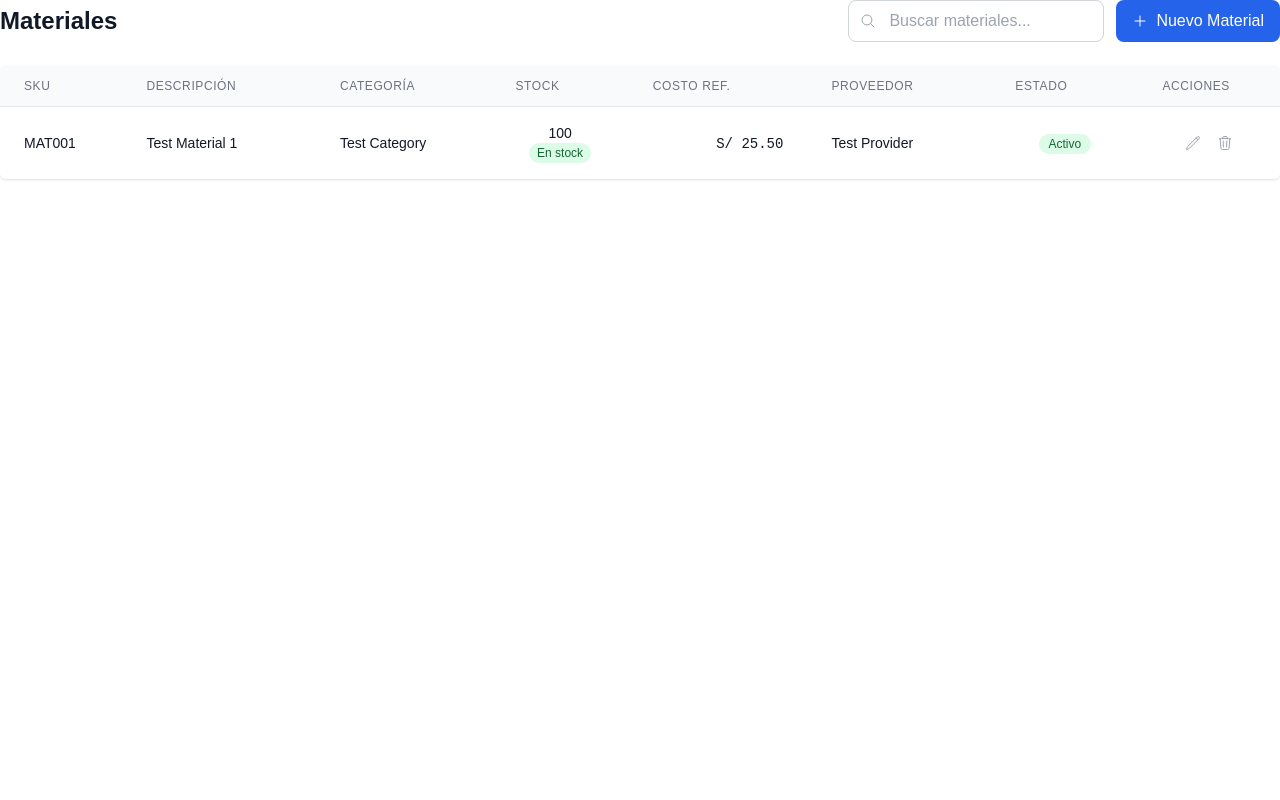
Test case: Materials Components › MaterialsList › should handle delete material confirmation
The image size is (1280, 800).
Click the button titled "Eliminar material" at (1225, 143), box left=1213, top=131, right=1237, bottom=155
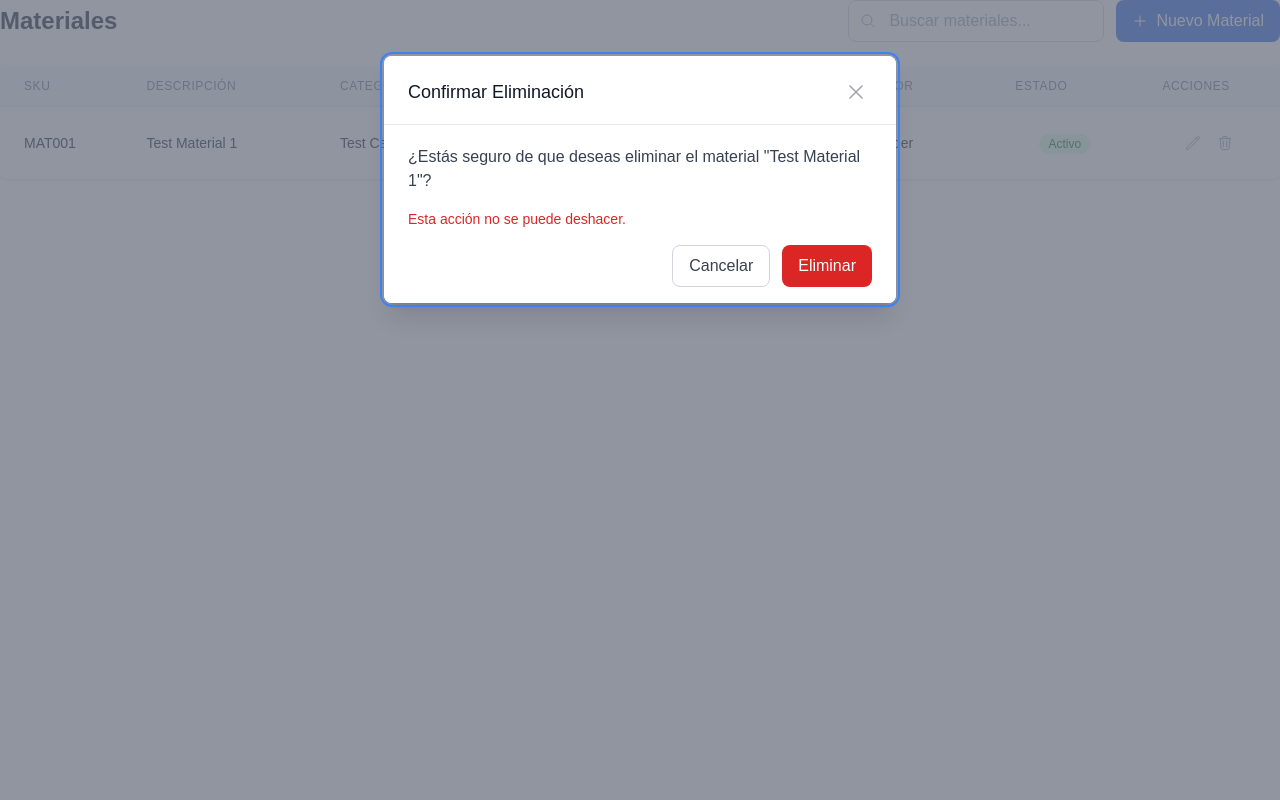
Now the heading "Confirmar Eliminación" is shown, box left=408, top=78, right=592, bottom=106
